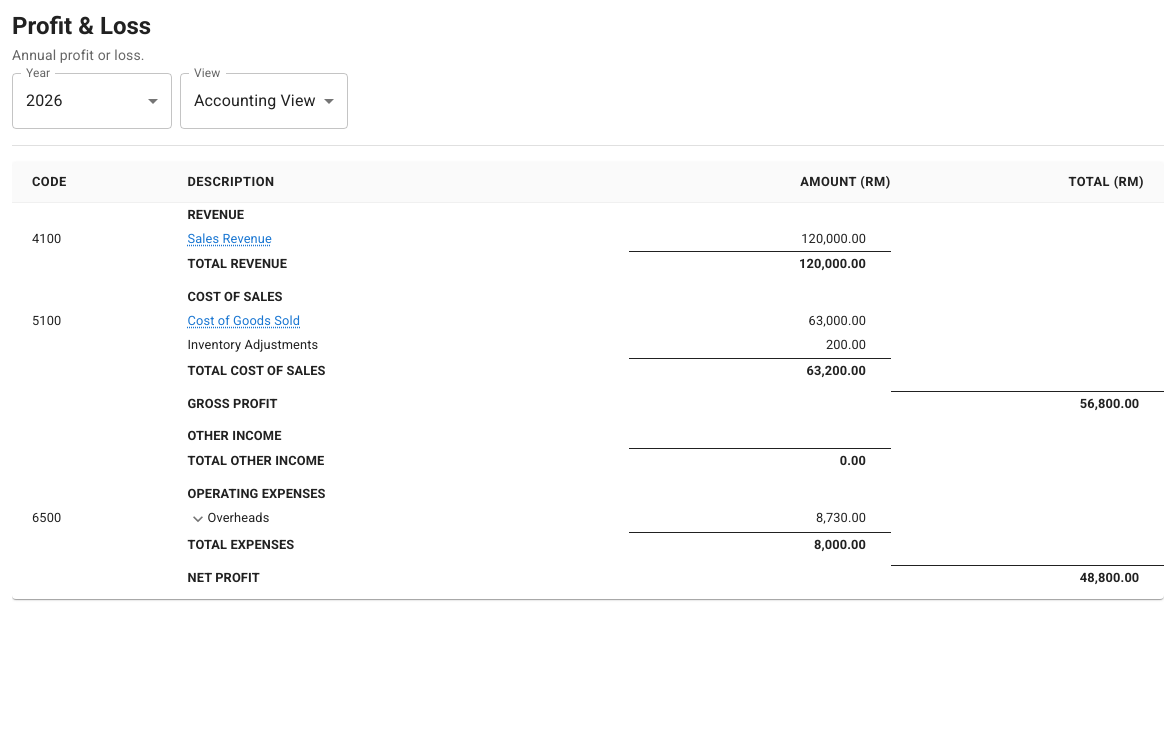
ProfitAndLossPage › expands a structural category over its children
Click the button with test id "pl-expand-account:oh". click: x=198, y=519
box: [188,509,208,529]
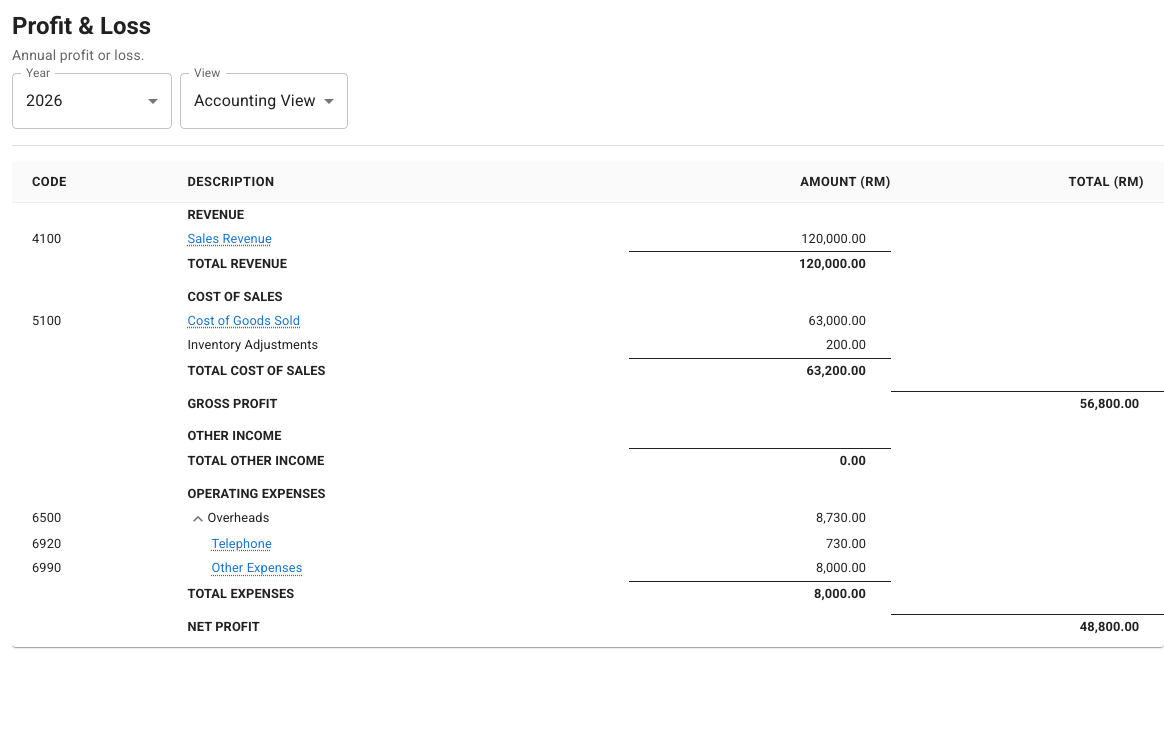
Result: the row with test id "pl-row-account:phone" is shown at [12,532,1163,556]
